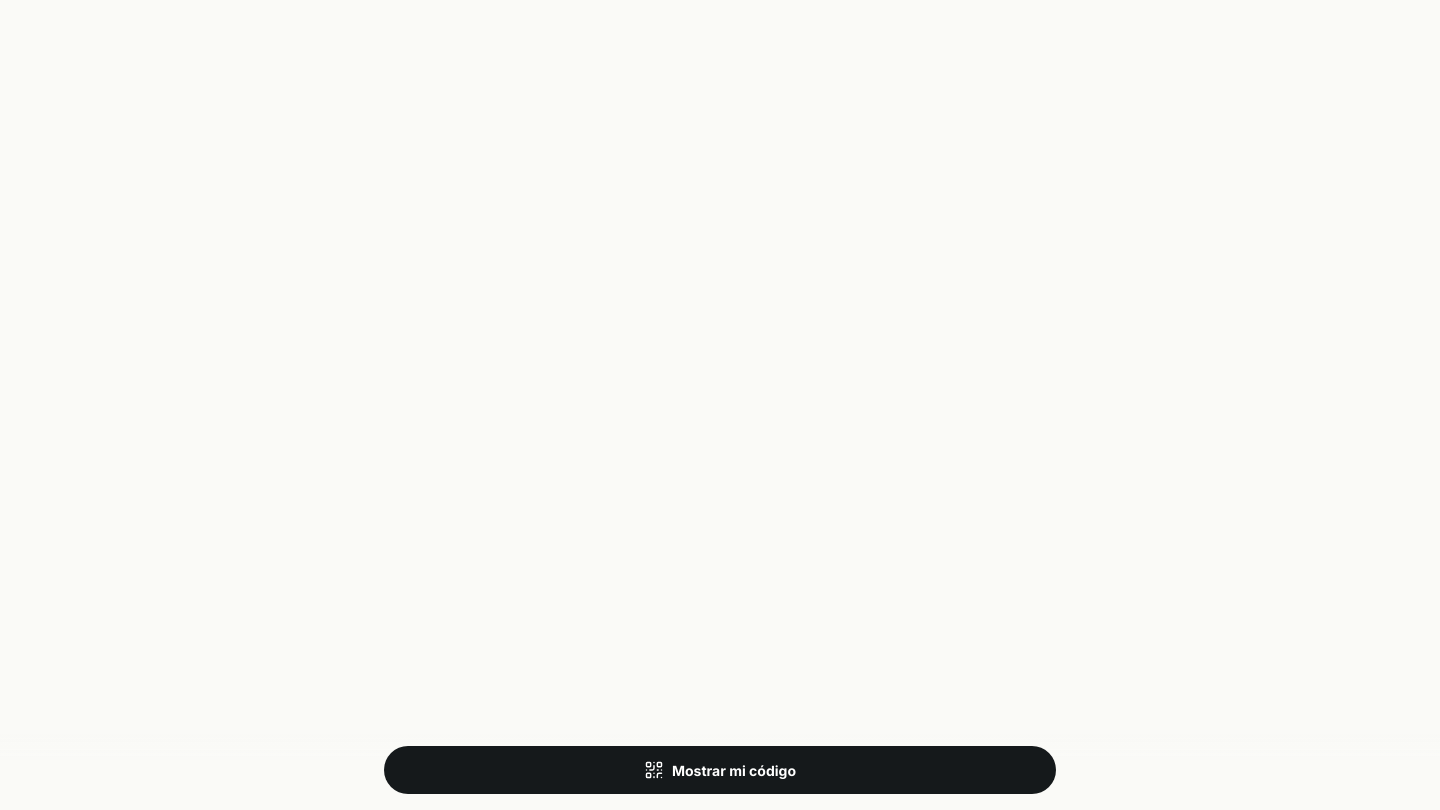
Scenario: the QR payload › shows neither the uuid nor the token as a readable fallback for a tokened customer
Click the button "Mostrar mi código" at [720, 770], box [384,746,1056,794]
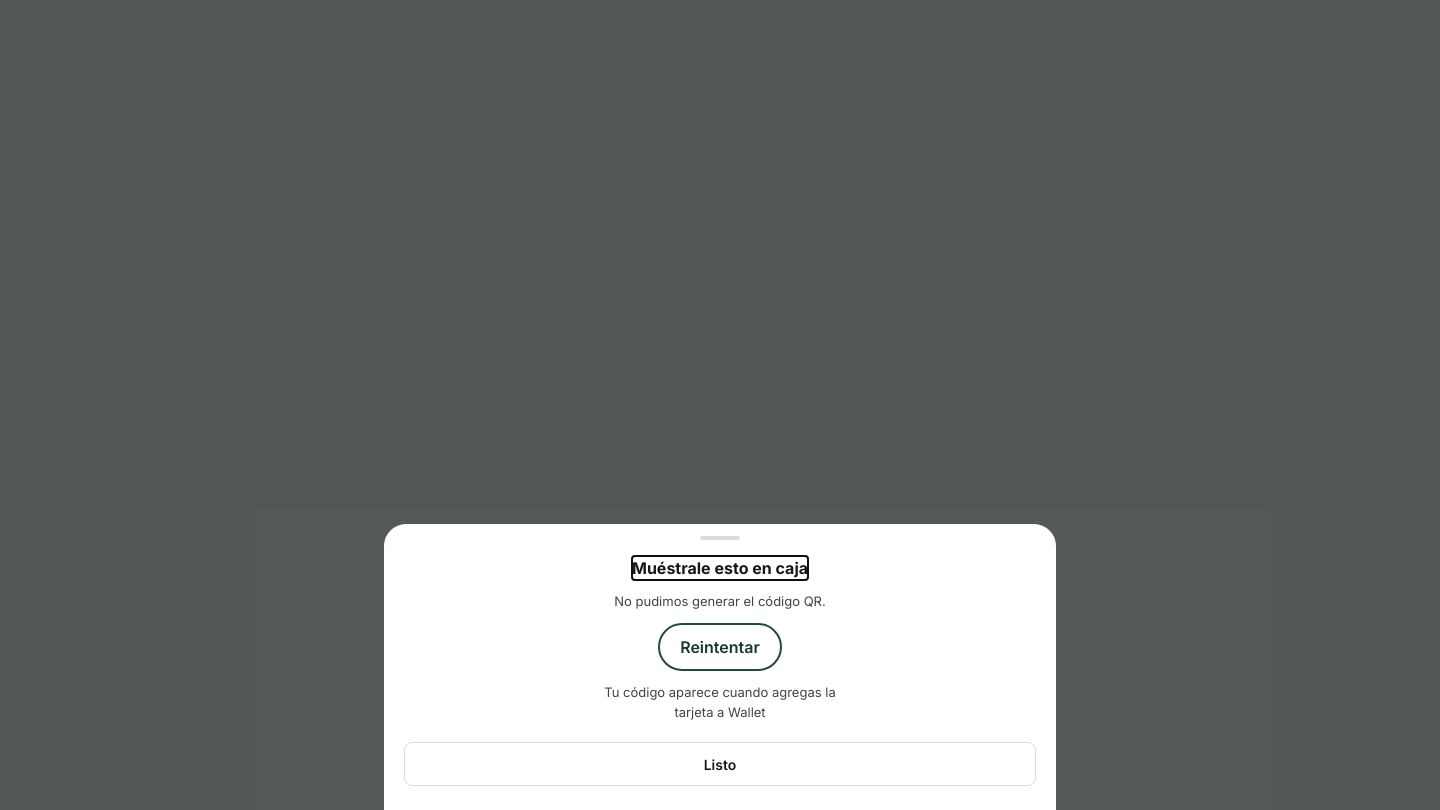
Expected: the text "No pudimos generar el código QR." is shown, [614,592,826,611]
